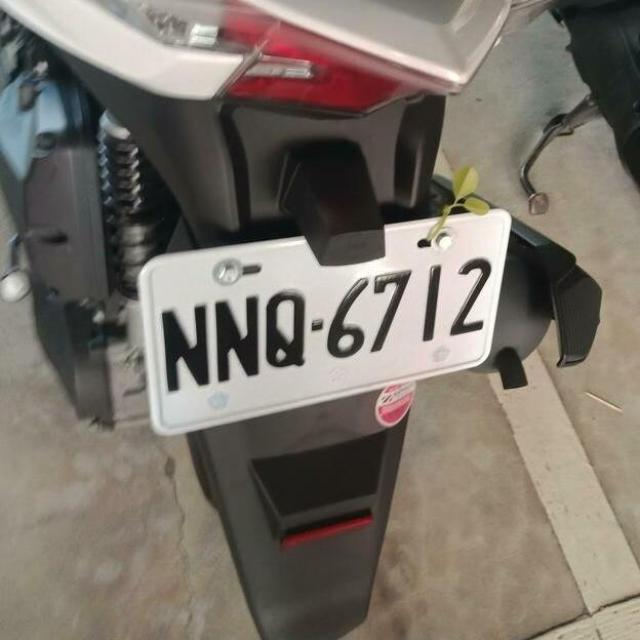W: (127, 200, 523, 444)
